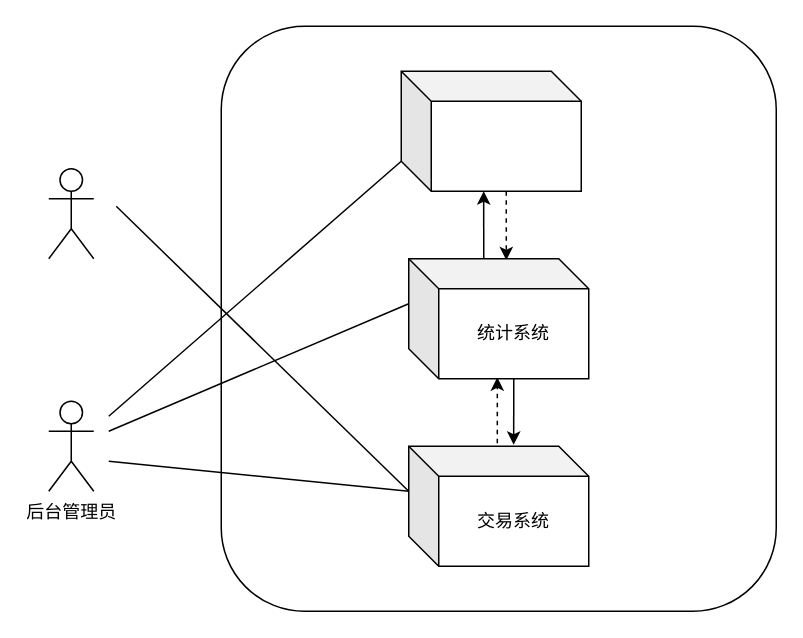
Image size: 803x638. Some labels were removed from this diagram. The box of each missing label's shape, as (x1, y1, x2, y2) in pixels:
卡管理系统: (400, 70, 581, 191)
收款机: (47, 167, 94, 259)
